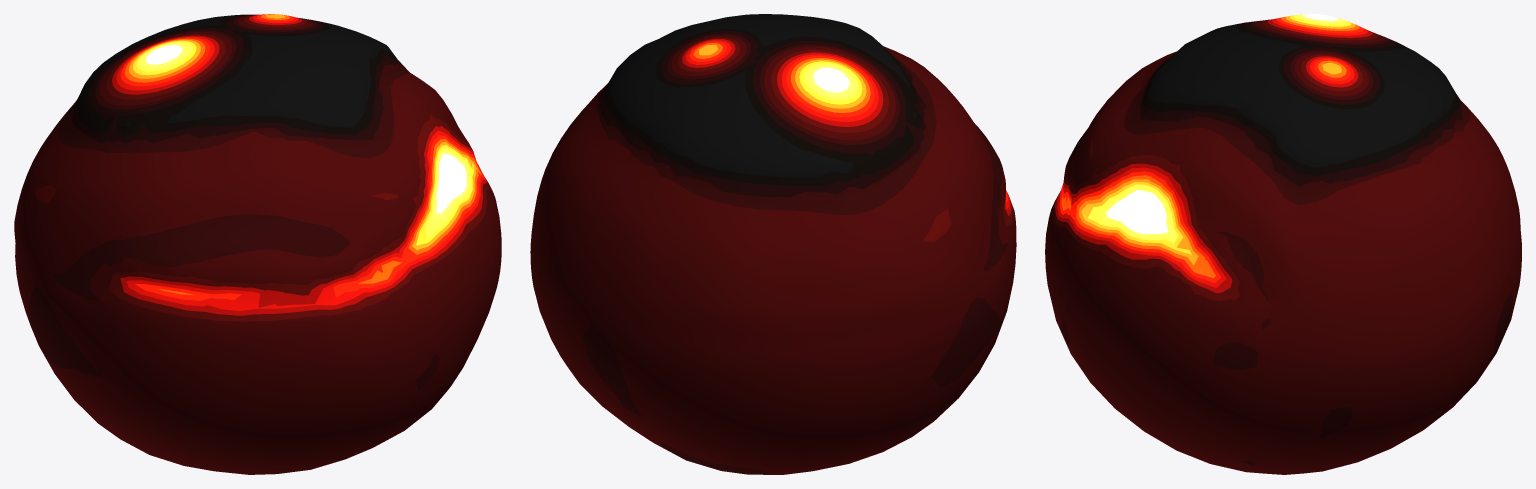
The model's file is orb_eyes.glb.
3 renders of one model, left to right at view 1: azimuth 30°, elevation 25°; view 2: azimuth 150°, elevation 25°; view 3: azimuth 270°, elevation 25°, orthographic.
Parts seen in each view (by area): view 1: orb_eyes; view 2: orb_eyes; view 3: orb_eyes.
Part boxes in pixels (box(x1,y1,x2,y2)): orb_eyes: box(14, 14, 501, 474); orb_eyes: box(530, 14, 1016, 474); orb_eyes: box(1045, 14, 1521, 474).
Size of the model in its own units: 20.96 by 19.62 by 20.91.
